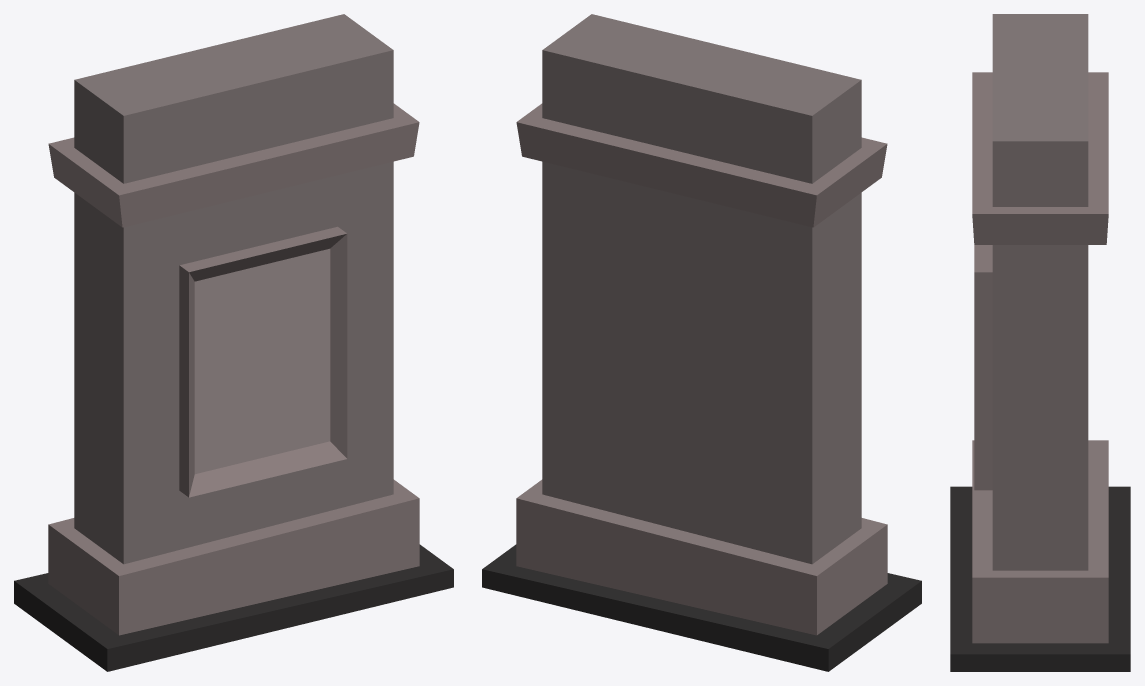
File: HWN20_Grave_20.glb
3 renders of one model, left to right at view 1: azimuth 30°, elevation 25°; view 2: azimuth 150°, elevation 25°; view 3: azimuth 270°, elevation 25°, orthographic. The views are drawn at different scales.
Visible parts, largest first — view 1: HWN20_Grave_20; view 2: HWN20_Grave_20; view 3: HWN20_Grave_20.
Boxes of the visible parts, box(x1,y1,x2,y2) form: HWN20_Grave_20: box(14, 14, 453, 671); HWN20_Grave_20: box(482, 14, 921, 671); HWN20_Grave_20: box(950, 14, 1130, 671).
Size of what is drawn, in the model's own units: 0.9895 by 1.45 by 0.4619.
1 material, 1 textured.
